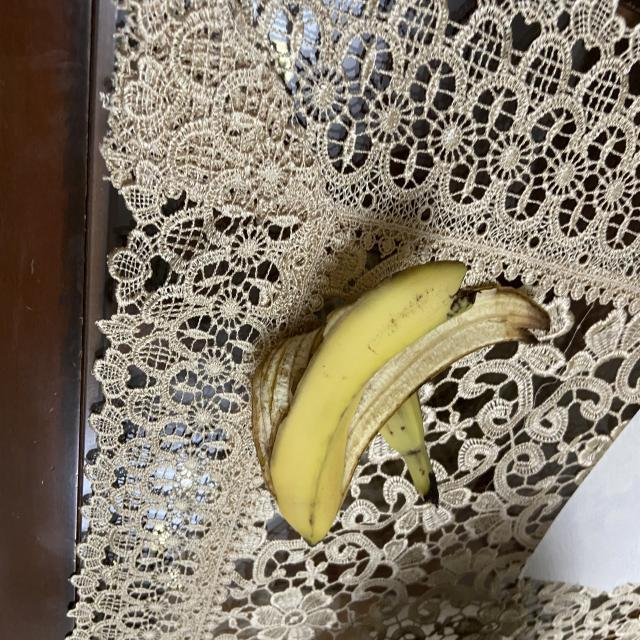banana-peel: (251, 258, 550, 546)
